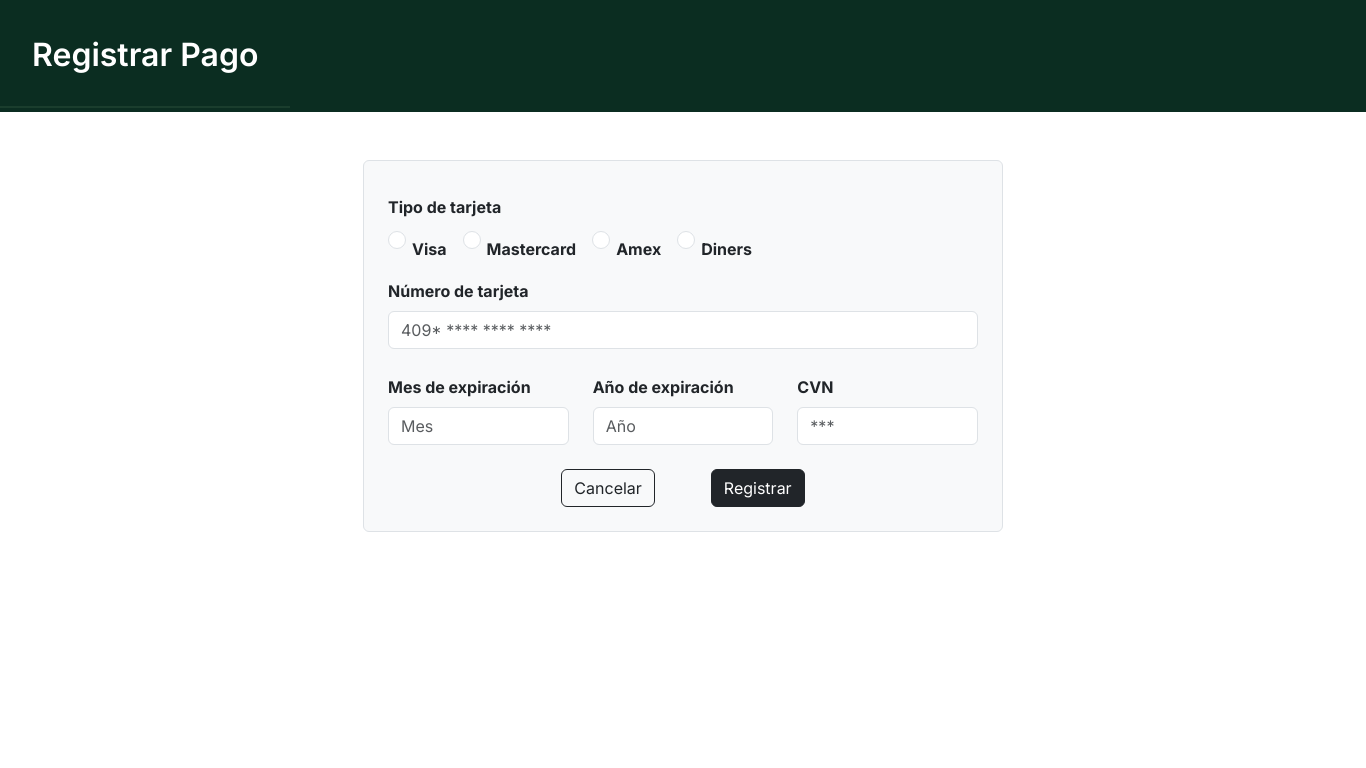
it: RegistrarPagoPage › displays card type error when not selected
This screenshot has width=1366, height=768.
Click the button "Registrar" at (758, 488), box [711,469,805,507]
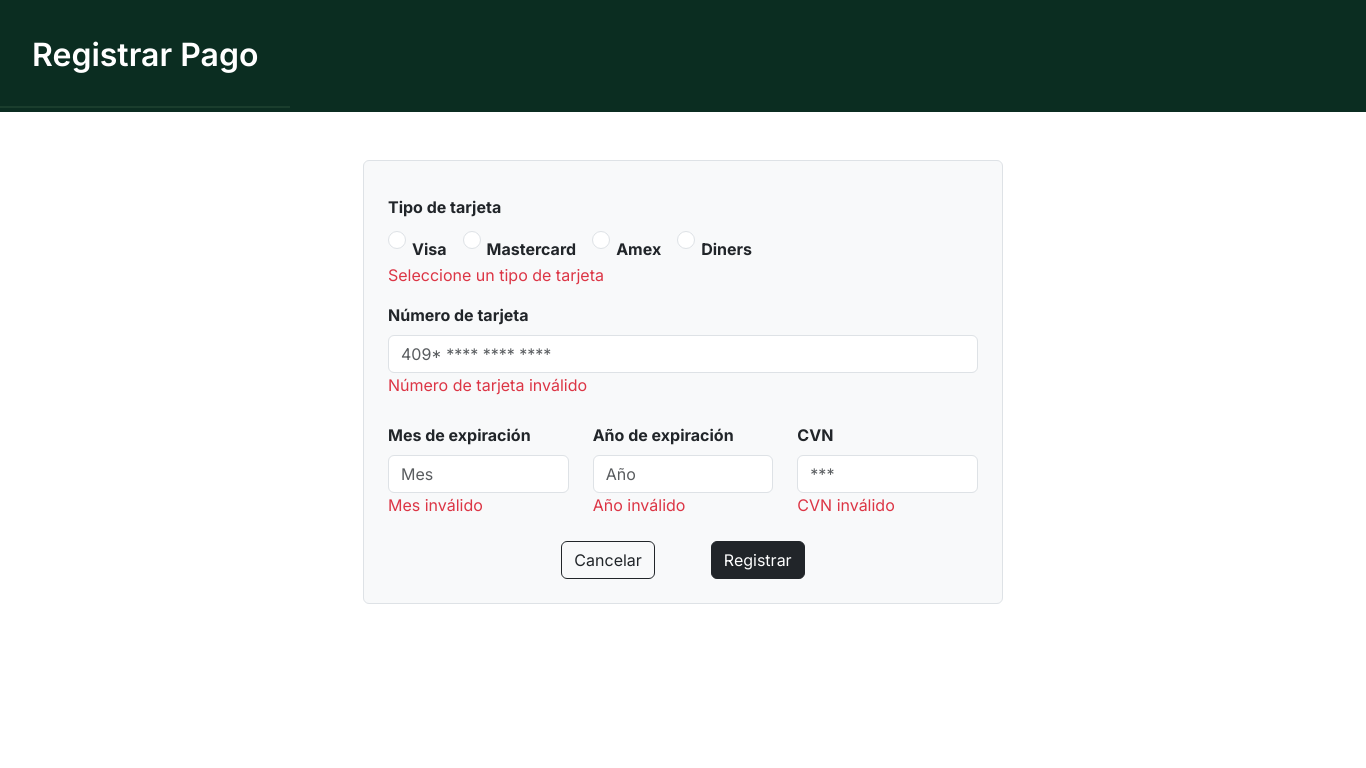
Expected: the text "Seleccione un tipo de tarjeta" is shown, [388,265,604,285]
